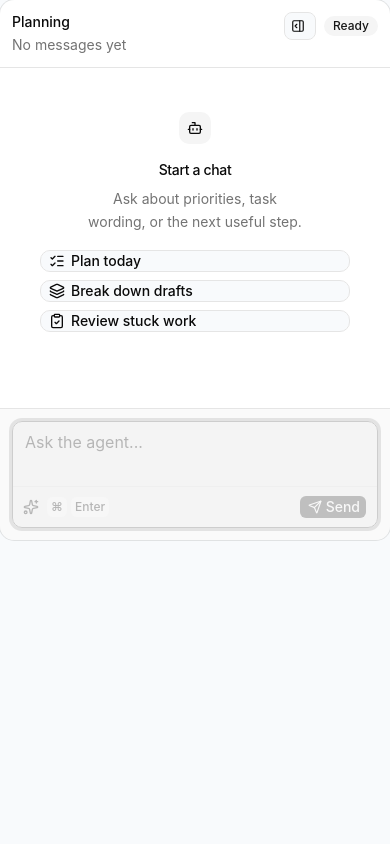
Test: AssistantChatPanel › opens board context from the compact context action
The width and height of the screenshot is (390, 844).
Expected: the text "Board counts available to the chat agent." is not shown
Click the button named "Open context": (300, 26) [284, 12, 316, 40]
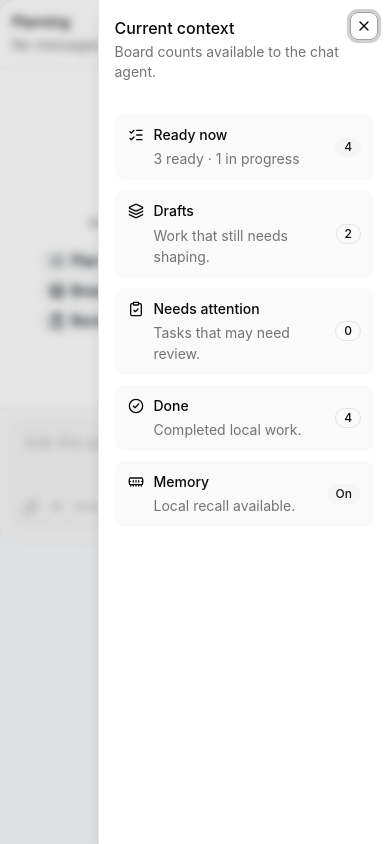
Expected: the text "Board counts available to the chat agent." is shown, [114, 42, 374, 82]
Expected: the heading "Current context" is shown, [114, 18, 234, 38]
